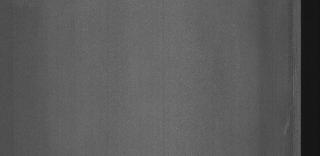silk spot: (284, 30, 300, 136)
